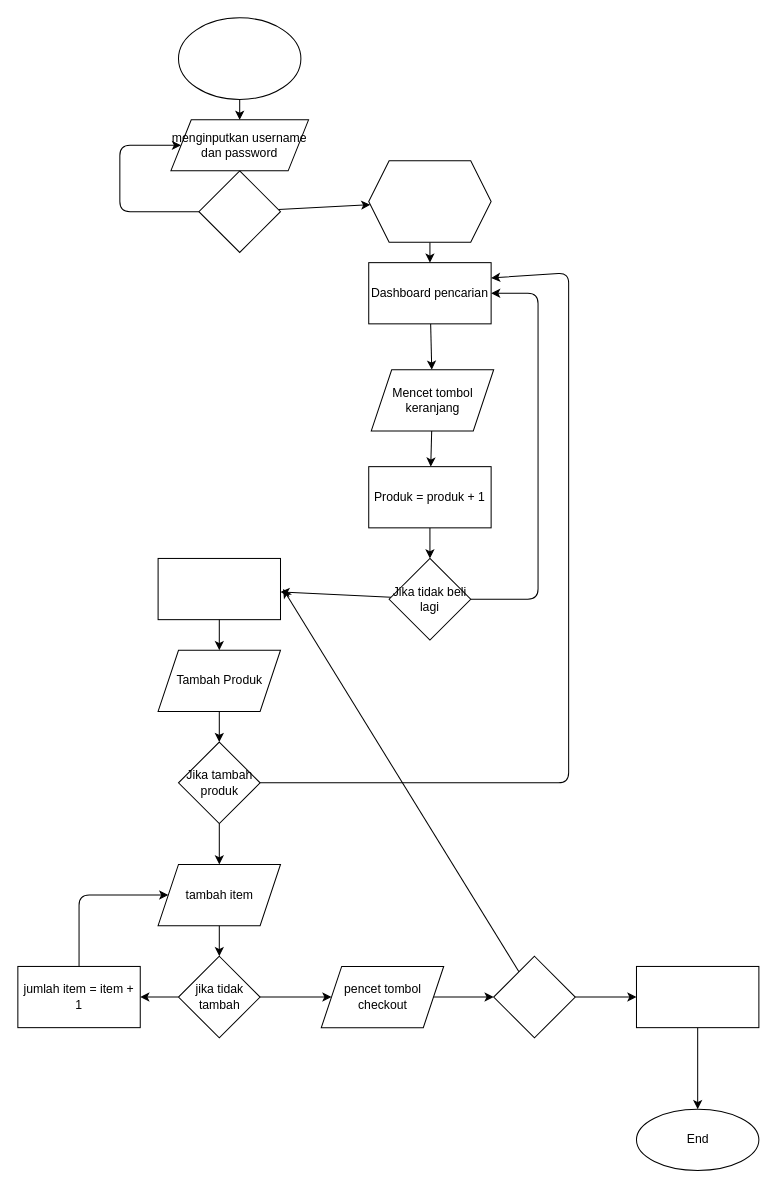
The diagram is 777 pixels wide and 1188 high, and some of its shapes have lost their labels. Each missing label, with the centre of its shape:
Halaman checkout: pixel 218 588
jika pencet: pixel 534 996
jumlah produk = 0 jumlah item = 0: pixel 429 201
Mengecek cocok apa tidak: pixel 239 211
pembayaran: pixel 697 996
Start: pixel 239 58
